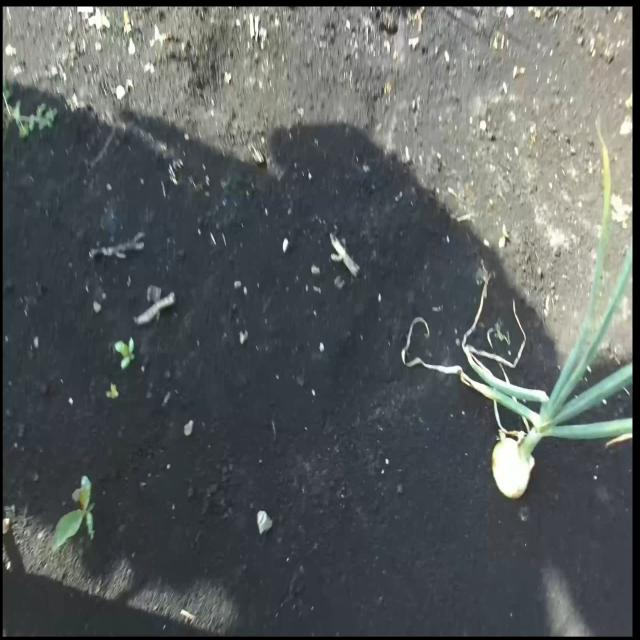onion: (491, 430, 535, 500)
